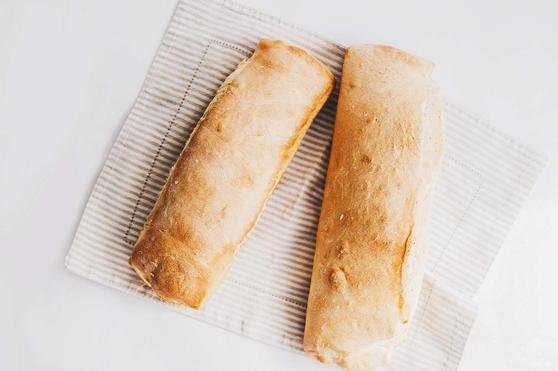white_bread: (136, 39, 330, 321), (307, 42, 447, 370)
